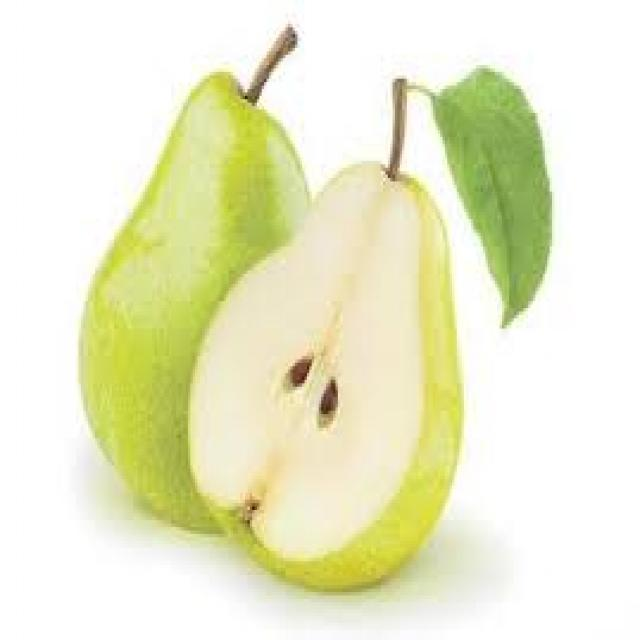organic waste: (183, 79, 459, 582), (76, 24, 314, 530), (430, 62, 550, 325)
